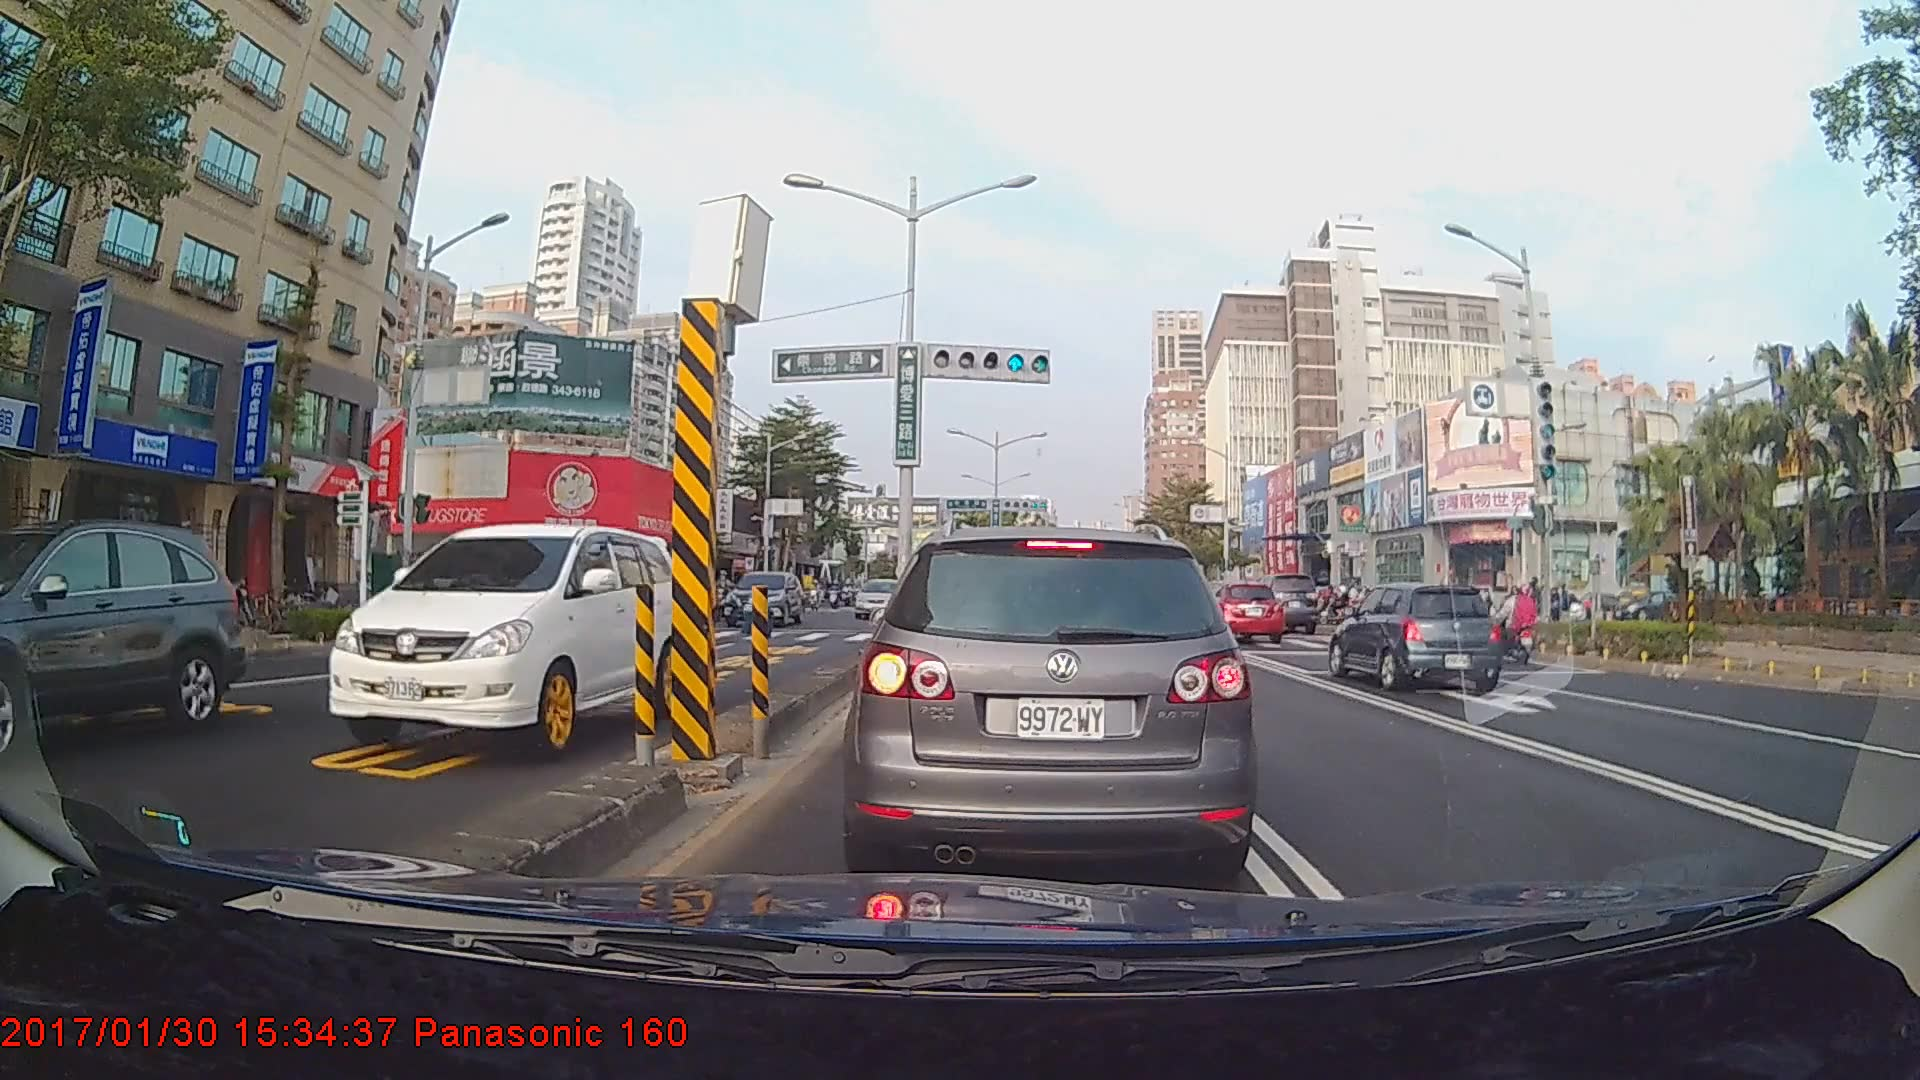vehicle: (856, 524, 1246, 884), (324, 522, 694, 758), (0, 517, 245, 761), (1327, 579, 1505, 691), (1233, 570, 1319, 636), (1199, 579, 1284, 644), (725, 570, 803, 628), (853, 578, 909, 618)
